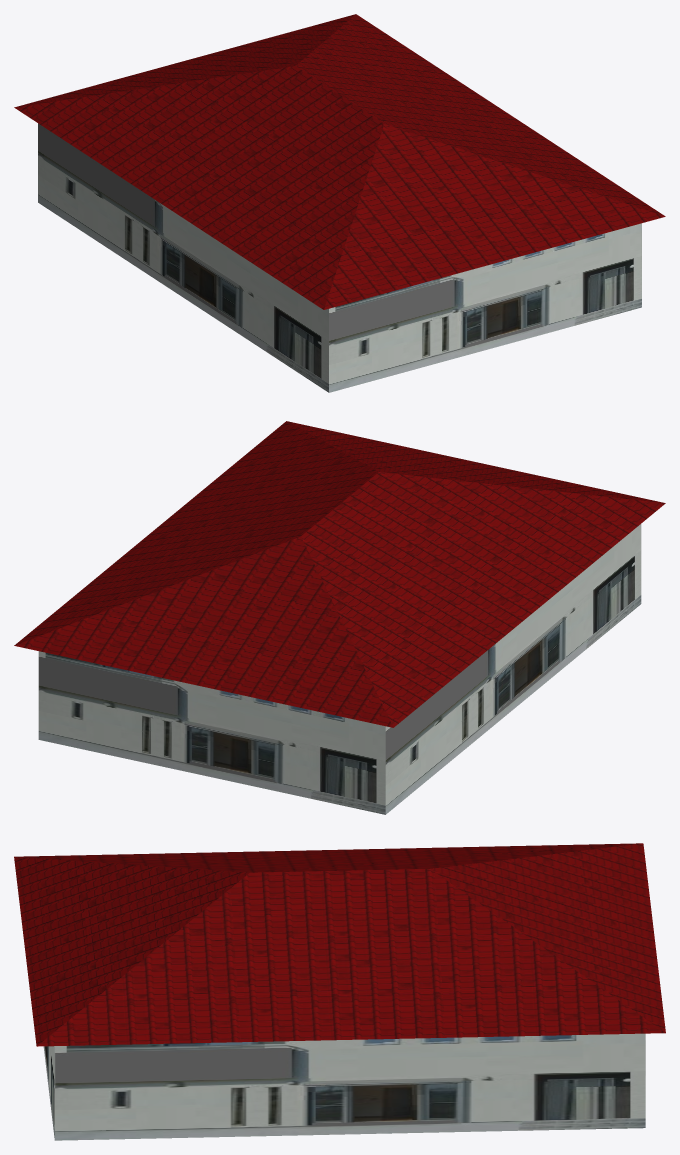
3 views of the same model, one above another, from view 1: azimuth 30°, elevation 25°; view 2: azimuth 150°, elevation 25°; view 3: azimuth 270°, elevation 25° (orthographic). The views are drawn at different scales.
Visible parts, largest first — view 1: CityEngineMaterial_17_m, CityEngineMaterial_11_m; view 2: CityEngineMaterial_17_m, CityEngineMaterial_11_m; view 3: CityEngineMaterial_17_m, CityEngineMaterial_11_m.
Boxes of the visible parts, x1,y1,x2,y2 form: CityEngineMaterial_17_m: (14, 14, 665, 309); CityEngineMaterial_11_m: (38, 123, 641, 392); CityEngineMaterial_17_m: (14, 421, 665, 727); CityEngineMaterial_11_m: (38, 524, 641, 814); CityEngineMaterial_17_m: (14, 843, 665, 1046); CityEngineMaterial_11_m: (43, 1033, 645, 1140).
Size of the model in its own units: 23.47 by 9.53 by 31.83.
